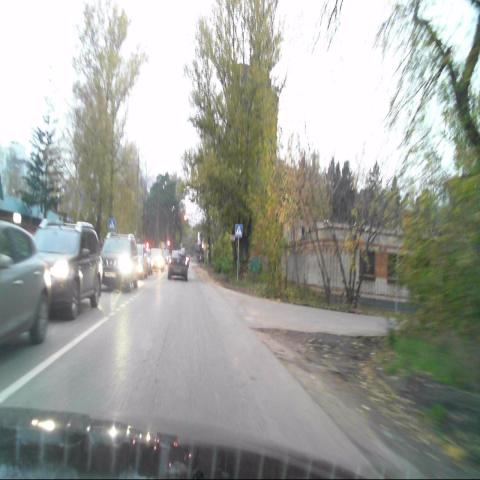5_19_1: (235, 223, 243, 237)
